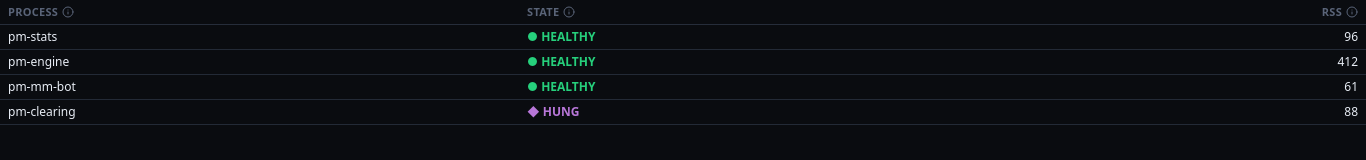
Test case: HealthTable › explains a column in a tip that opens on focus, and not one without help
Focus the button named "RSS help" at {"x": 1352, "y": 12}, box [1346,6,1358,18]
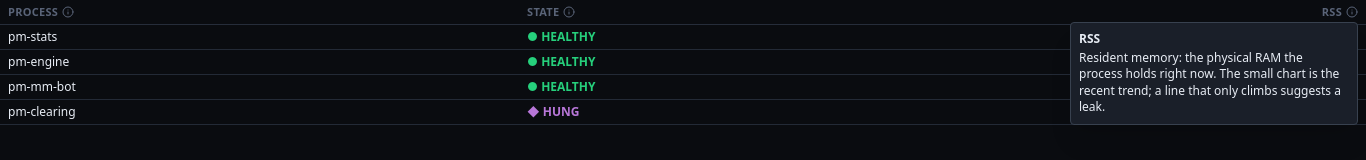
Expected: the tooltip shows "Resident memory", [1079,48,1341,115]
Leave the button named "RSS help", box [1346,6,1358,18]
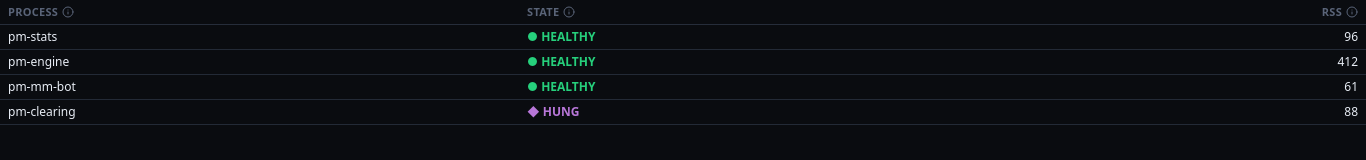
Expected: the button named "Process help" is shown, [62,6,74,18]
Expected: the tooltip is gone
